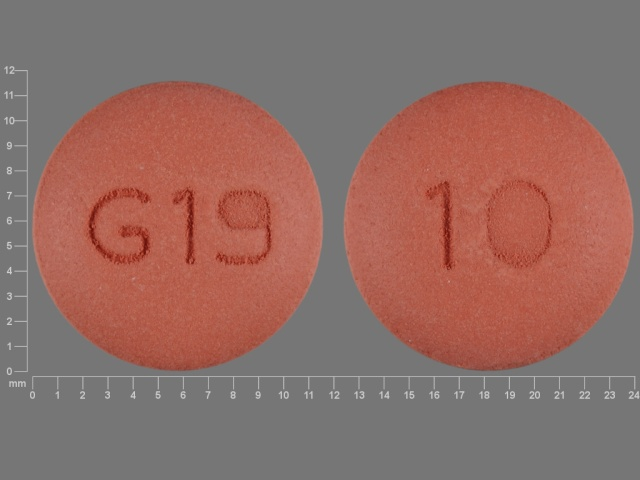0: (479, 175, 561, 275)
1: (421, 175, 461, 278), (168, 184, 199, 273)
9: (213, 187, 275, 268)
G: (85, 180, 155, 269)
